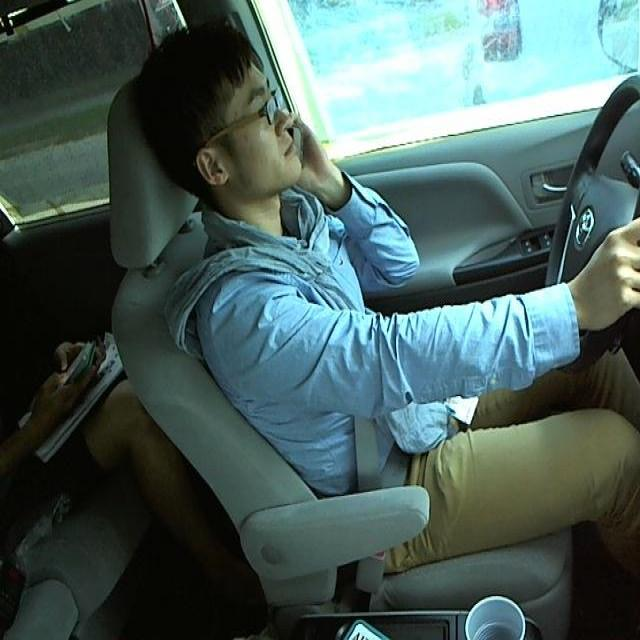using_phone: (95, 9, 382, 232)
